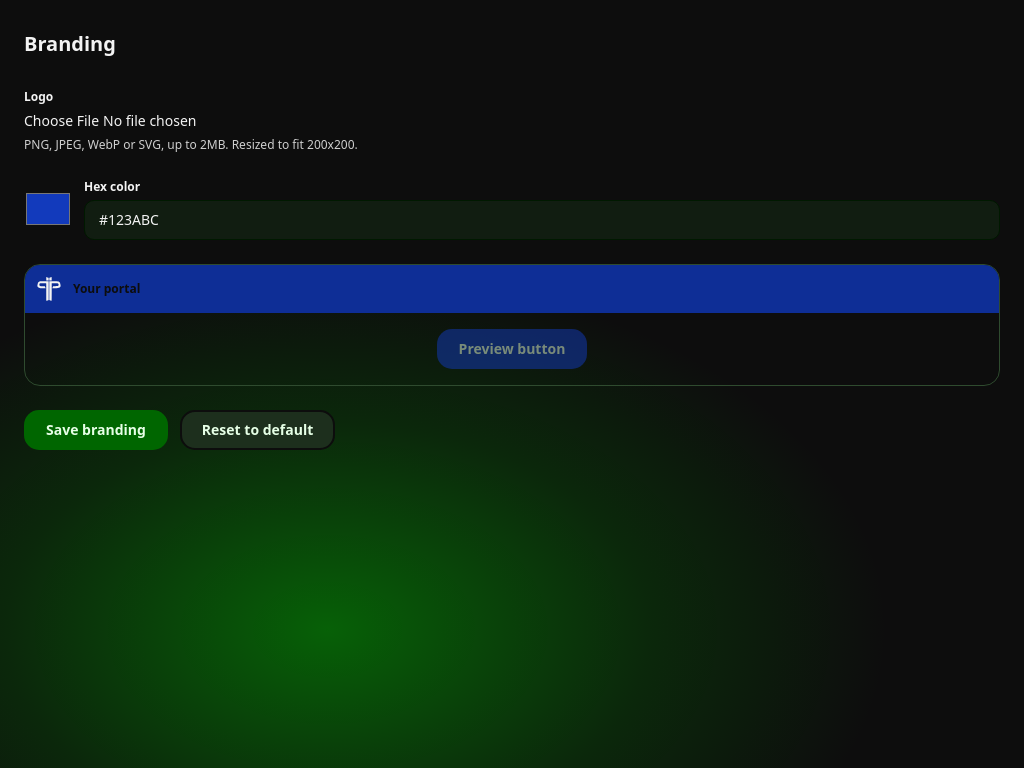
it: BrandingPage › saves the branding via PATCH /trainers/:id/branding and shows a success message
Replace the text in the field labelled "Hex color" with "#000000": (542,220) [84,200,1000,240]
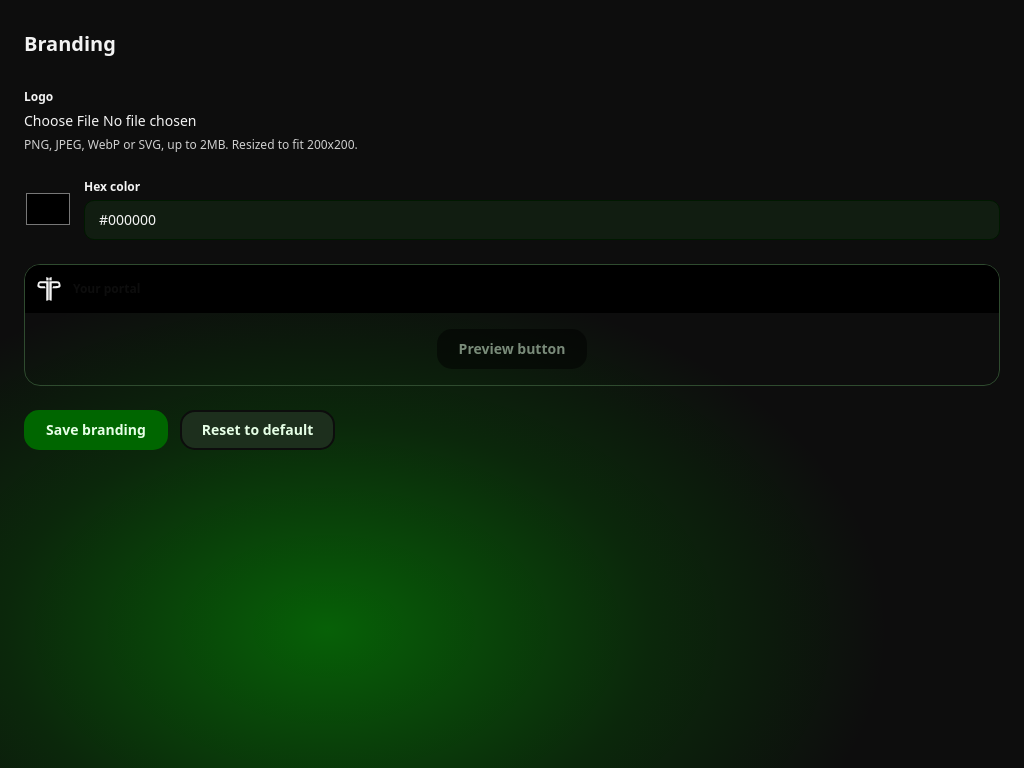
Click the button "Save branding": (96,430) [24,410,168,450]
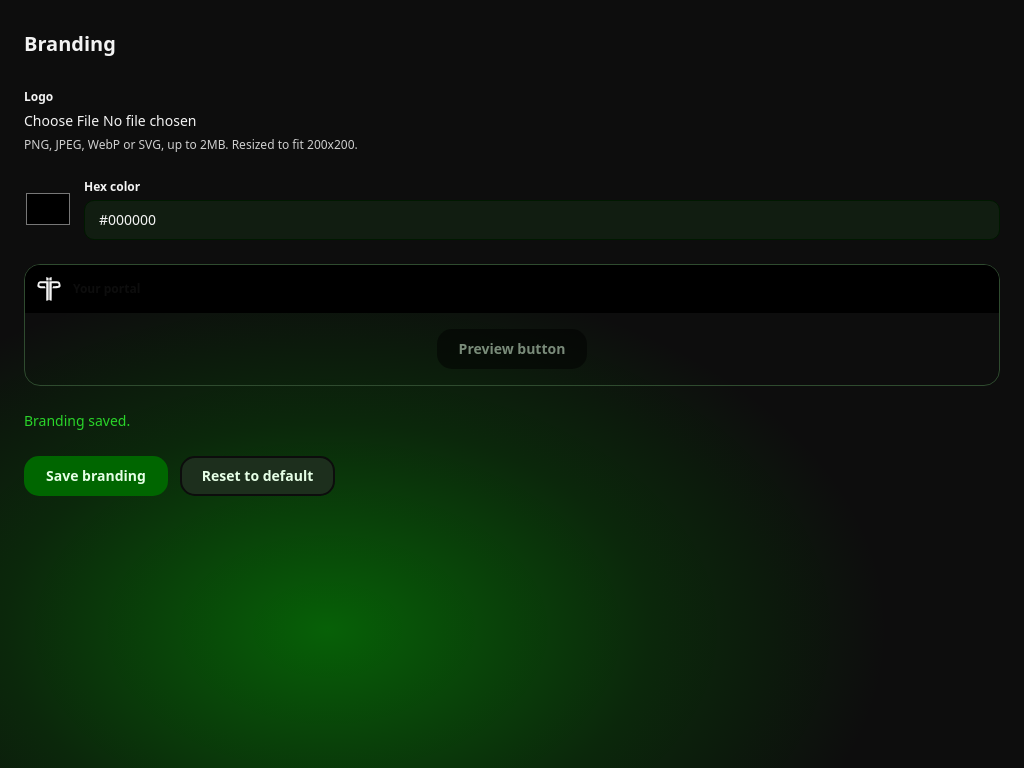
expect the message shows "Branding saved": met, box [24,411,130,430]
